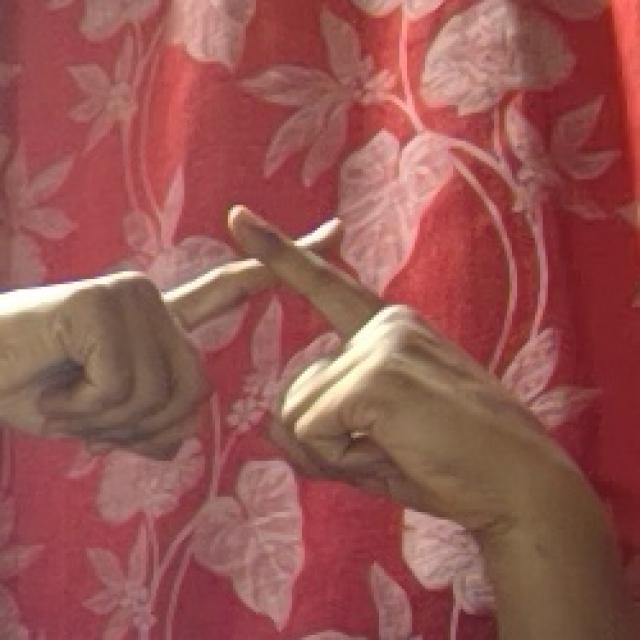Alphabet-X: (0, 190, 517, 538)
